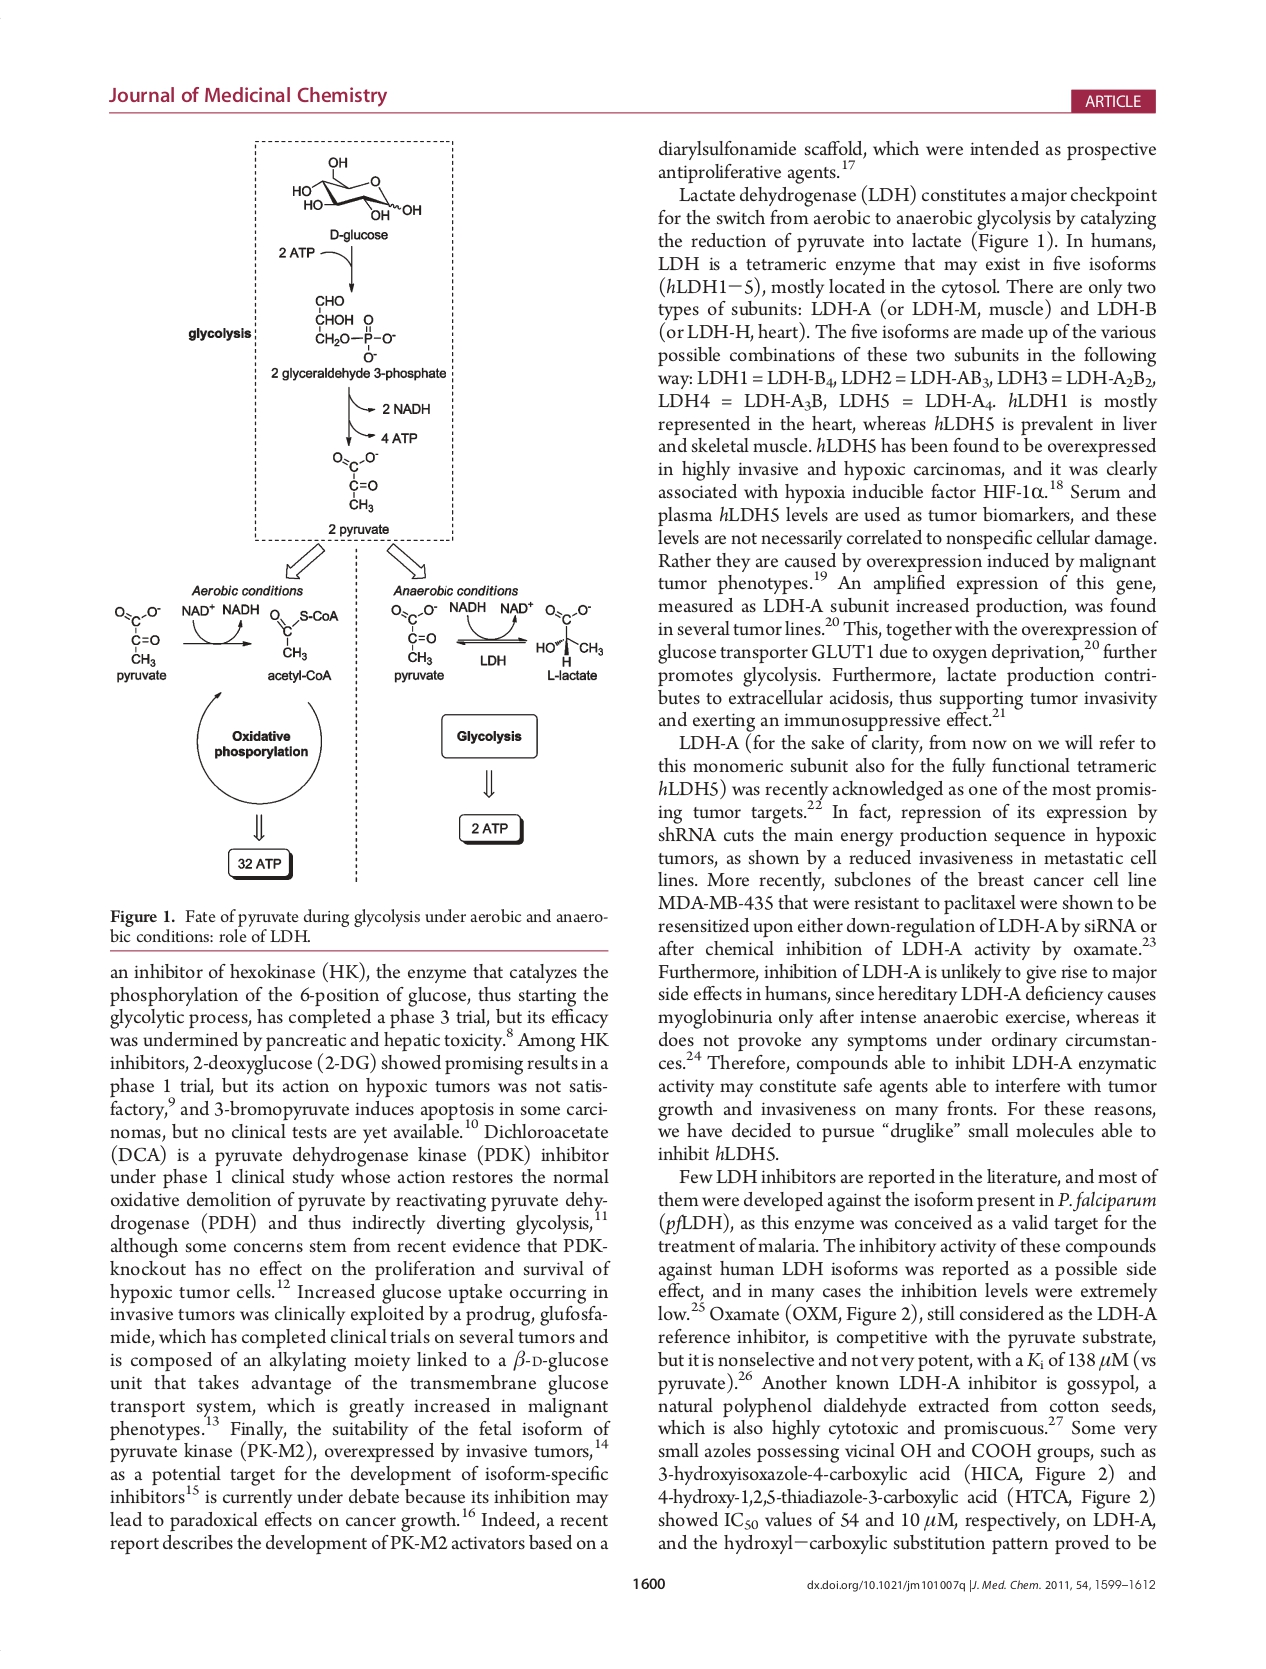exist_molecular: (289, 150, 426, 226), (307, 291, 402, 364), (535, 601, 604, 670), (263, 606, 340, 661), (330, 446, 387, 517), (113, 604, 168, 669), (386, 604, 440, 666)
